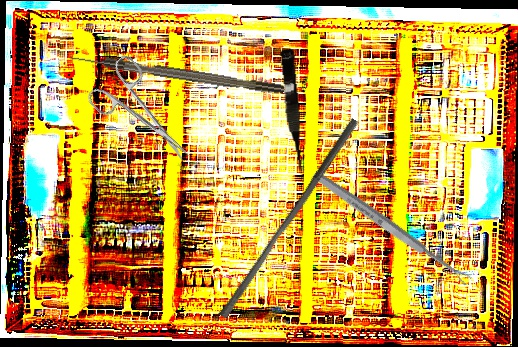Hook Surgical: (68, 51, 285, 96)
Iris Scissors: (81, 52, 207, 181)
Micro Scissor: (276, 47, 308, 178)
Pusher: (218, 112, 359, 324)
Surgical Spoon: (310, 168, 473, 288)
